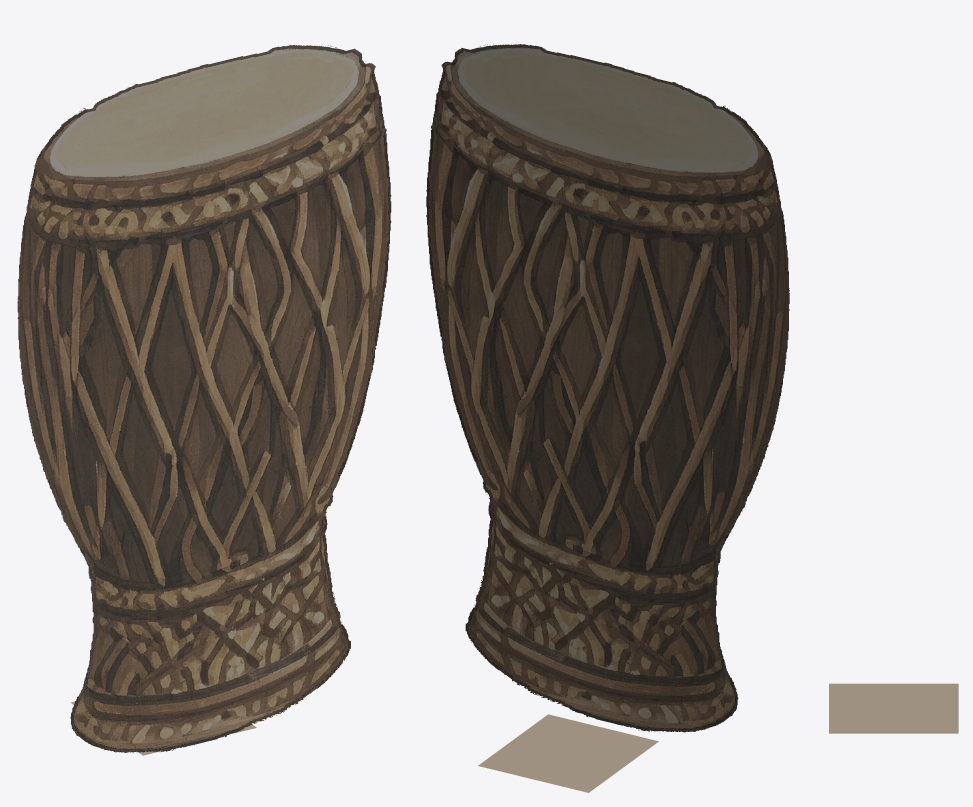
File: toad-standee-long-drum-night.glb
The picture shows the model from 3 angles, left to right: view 1: azimuth 30°, elevation 25°; view 2: azimuth 150°, elevation 25°; view 3: azimuth 270°, elevation 25°; orthographic projection. The views are drawn at different scales.
Parts seen in each view (by area): view 1: long-drum; view 2: long-drum; view 3: long-drum.
Boxes of the visible parts, left/top/right/bottom form: long-drum: left=17, top=45, right=391, bottom=755; long-drum: left=426, top=44, right=789, bottom=792; long-drum: left=829, top=683, right=958, bottom=733.
Size of the model in its own units: 0.1 by 0.1724 by 0.035.
1 material, 1 textured.
